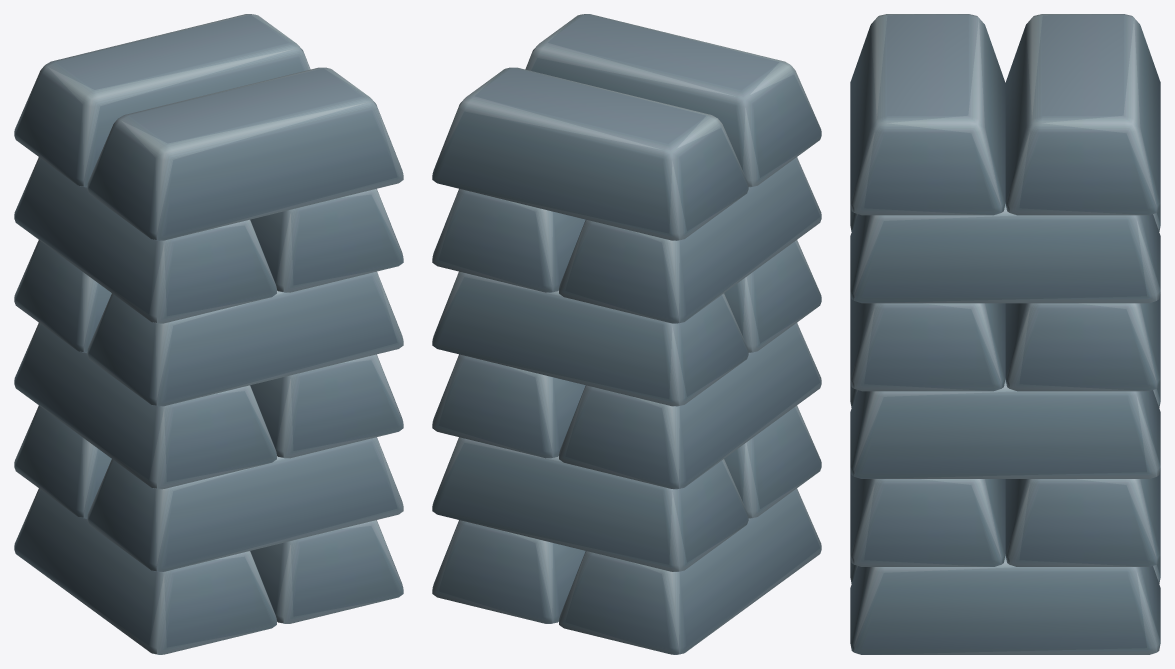
File: iron_bars_stack_medium.glb
The picture shows the model from 3 angles, left to right: view 1: azimuth 30°, elevation 25°; view 2: azimuth 150°, elevation 25°; view 3: azimuth 270°, elevation 25°; orthographic projection. The views are drawn at different scales.
Visible parts, largest first — view 1: Iron_Bars_Stack_Medium; view 2: Iron_Bars_Stack_Medium; view 3: Iron_Bars_Stack_Medium.
Boxes of the visible parts, x1,y1,x2,y2 form: Iron_Bars_Stack_Medium: (14, 14, 403, 654); Iron_Bars_Stack_Medium: (432, 14, 821, 654); Iron_Bars_Stack_Medium: (850, 14, 1160, 654).
Size of the model in its own units: 0.8001 by 1.5 by 0.8001.
1 material, 1 textured.
